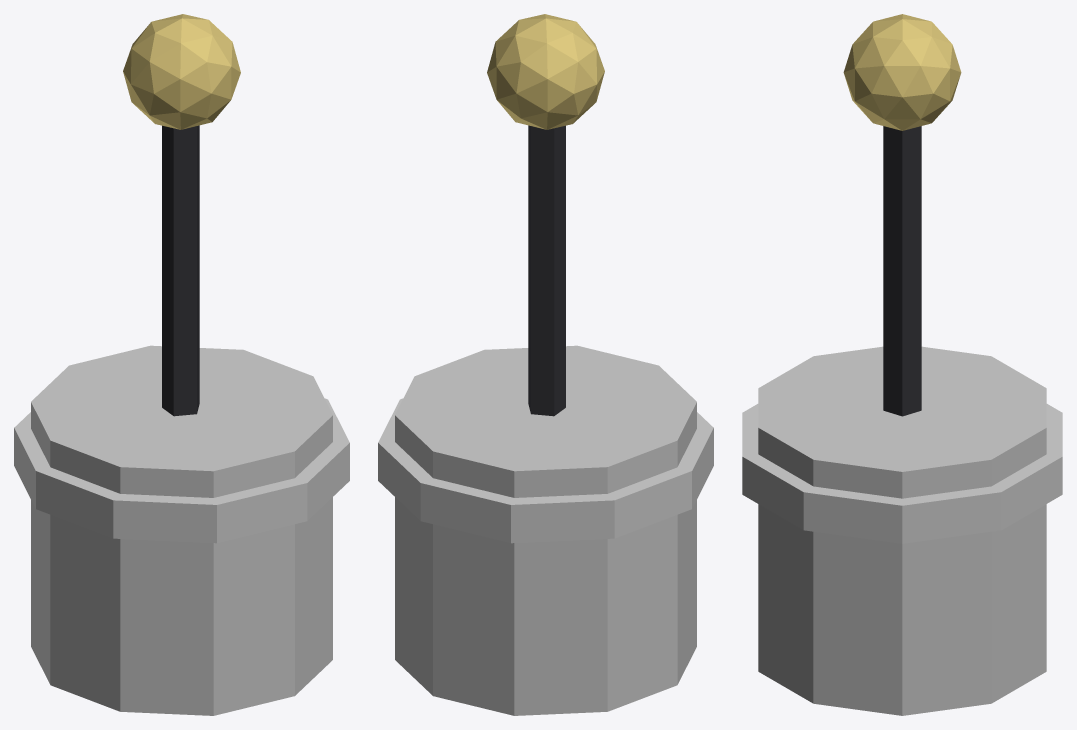
The model's file is buoy_skiff.glb.
The picture shows the model from 3 angles, left to right: view 1: azimuth 30°, elevation 25°; view 2: azimuth 150°, elevation 25°; view 3: azimuth 270°, elevation 25°; orthographic projection.
Visible parts, largest first — view 1: geometry_0; view 2: geometry_0; view 3: geometry_0.
Part boxes in pixels (x1,y1,x2,y2): geometry_0: (14, 14, 349, 715); geometry_0: (378, 14, 713, 715); geometry_0: (742, 14, 1062, 715).
Bounding box in the file's own units: 2 × 4.15 × 1.9.
